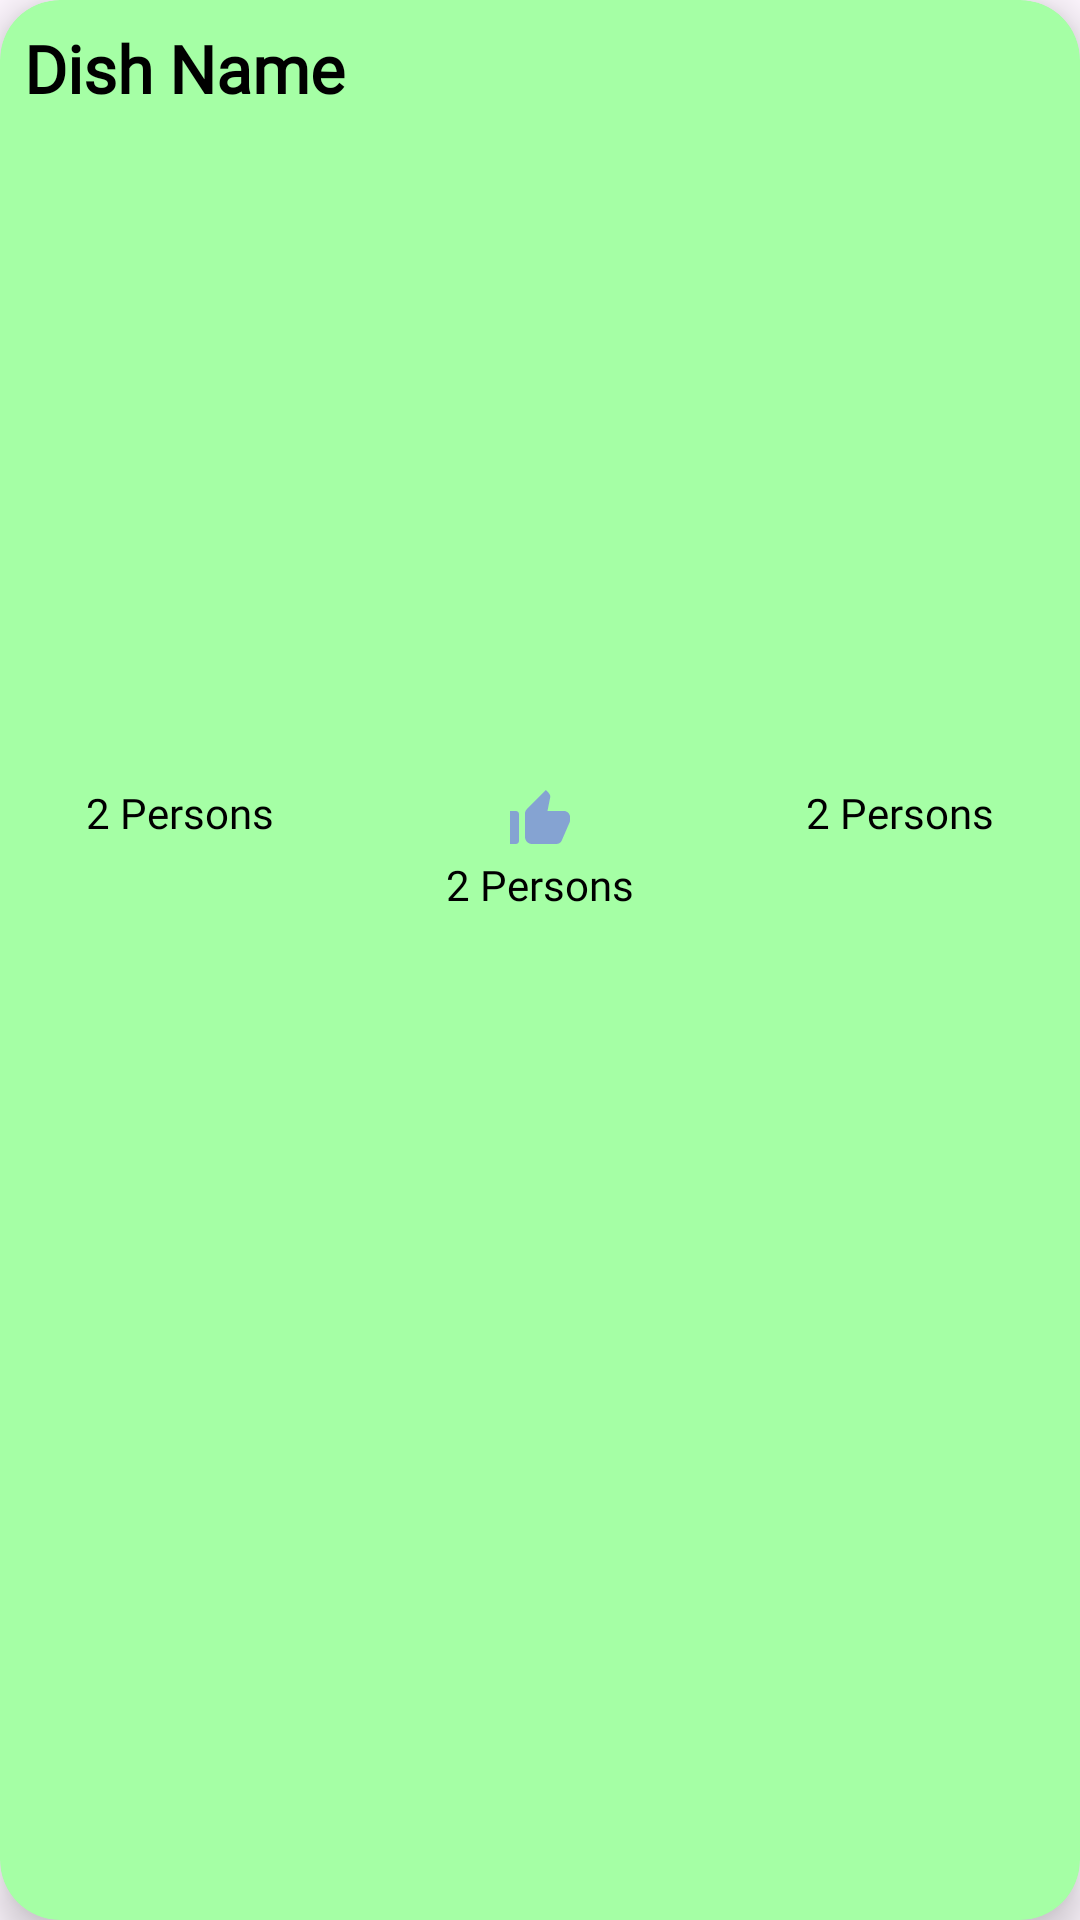

Screen size 1080w x 1920h. Icon name, then its center in pixels as (x=x, y=y):
like: (x=540, y=817)
